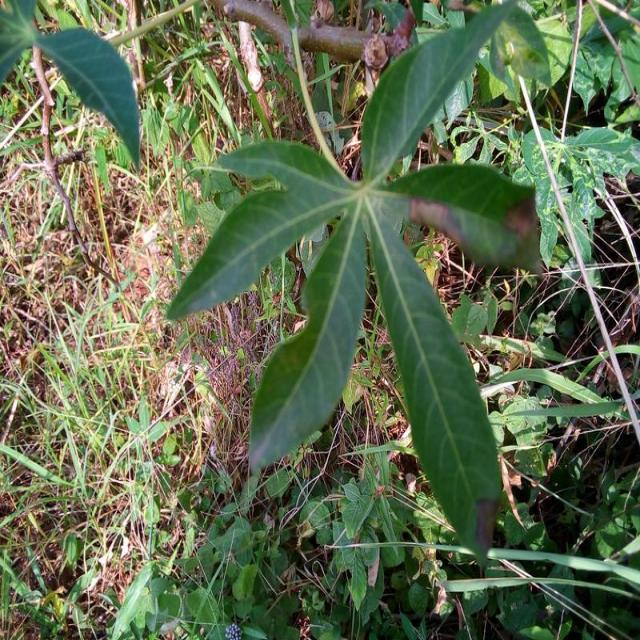cassava leaf: (163, 2, 555, 568), (31, 25, 142, 172)
